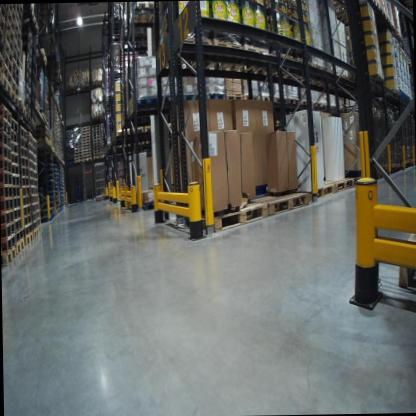pallet: (1, 125, 135, 268), (169, 194, 268, 237), (255, 188, 310, 224), (169, 34, 216, 72), (23, 6, 49, 73), (232, 35, 271, 78), (203, 37, 246, 75), (254, 47, 294, 82), (297, 178, 335, 210), (323, 173, 355, 203), (285, 56, 311, 88), (130, 1, 161, 26), (133, 93, 159, 110), (158, 92, 181, 111), (308, 63, 330, 82), (4, 61, 18, 90), (1, 236, 17, 257), (0, 116, 14, 140), (4, 18, 13, 55), (1, 223, 16, 243), (2, 15, 13, 42), (0, 168, 16, 186), (0, 184, 16, 201), (3, 71, 13, 97), (226, 89, 244, 103), (0, 106, 13, 125), (180, 92, 207, 101), (6, 4, 15, 31), (0, 145, 12, 164), (1, 157, 15, 173), (1, 211, 14, 228), (207, 89, 227, 100), (11, 205, 23, 222), (15, 9, 23, 34), (13, 16, 22, 38), (9, 87, 18, 109), (4, 37, 12, 61), (13, 28, 22, 49), (261, 93, 275, 106), (0, 197, 14, 210), (243, 93, 261, 103), (9, 170, 21, 185), (11, 138, 20, 158), (12, 115, 20, 137), (15, 229, 25, 246), (299, 95, 312, 108), (0, 131, 12, 145), (12, 35, 20, 56), (0, 6, 6, 33), (14, 219, 23, 237), (5, 50, 12, 73), (11, 56, 18, 79), (17, 135, 29, 148), (312, 95, 321, 112), (20, 123, 29, 140), (15, 6, 23, 24), (274, 94, 287, 105), (15, 238, 25, 252), (34, 16, 41, 35), (19, 99, 26, 118), (18, 148, 28, 161), (8, 4, 15, 22), (20, 164, 29, 178), (23, 219, 32, 233), (24, 233, 33, 247), (10, 152, 21, 163), (12, 48, 19, 65), (13, 197, 23, 208), (10, 163, 21, 172), (21, 195, 30, 206), (0, 5, 7, 19), (134, 126, 142, 138), (0, 21, 4, 45), (26, 107, 32, 123), (0, 35, 5, 54), (34, 98, 40, 113), (13, 130, 19, 145), (21, 185, 30, 195), (21, 204, 30, 214), (23, 214, 31, 225), (288, 94, 300, 101), (12, 187, 20, 197), (21, 157, 28, 168), (33, 228, 39, 240), (30, 115, 35, 129), (0, 63, 3, 86), (31, 221, 39, 229), (72, 159, 83, 164), (22, 178, 29, 185), (92, 80, 100, 86), (0, 47, 3, 62), (84, 157, 93, 162), (93, 156, 103, 160)
